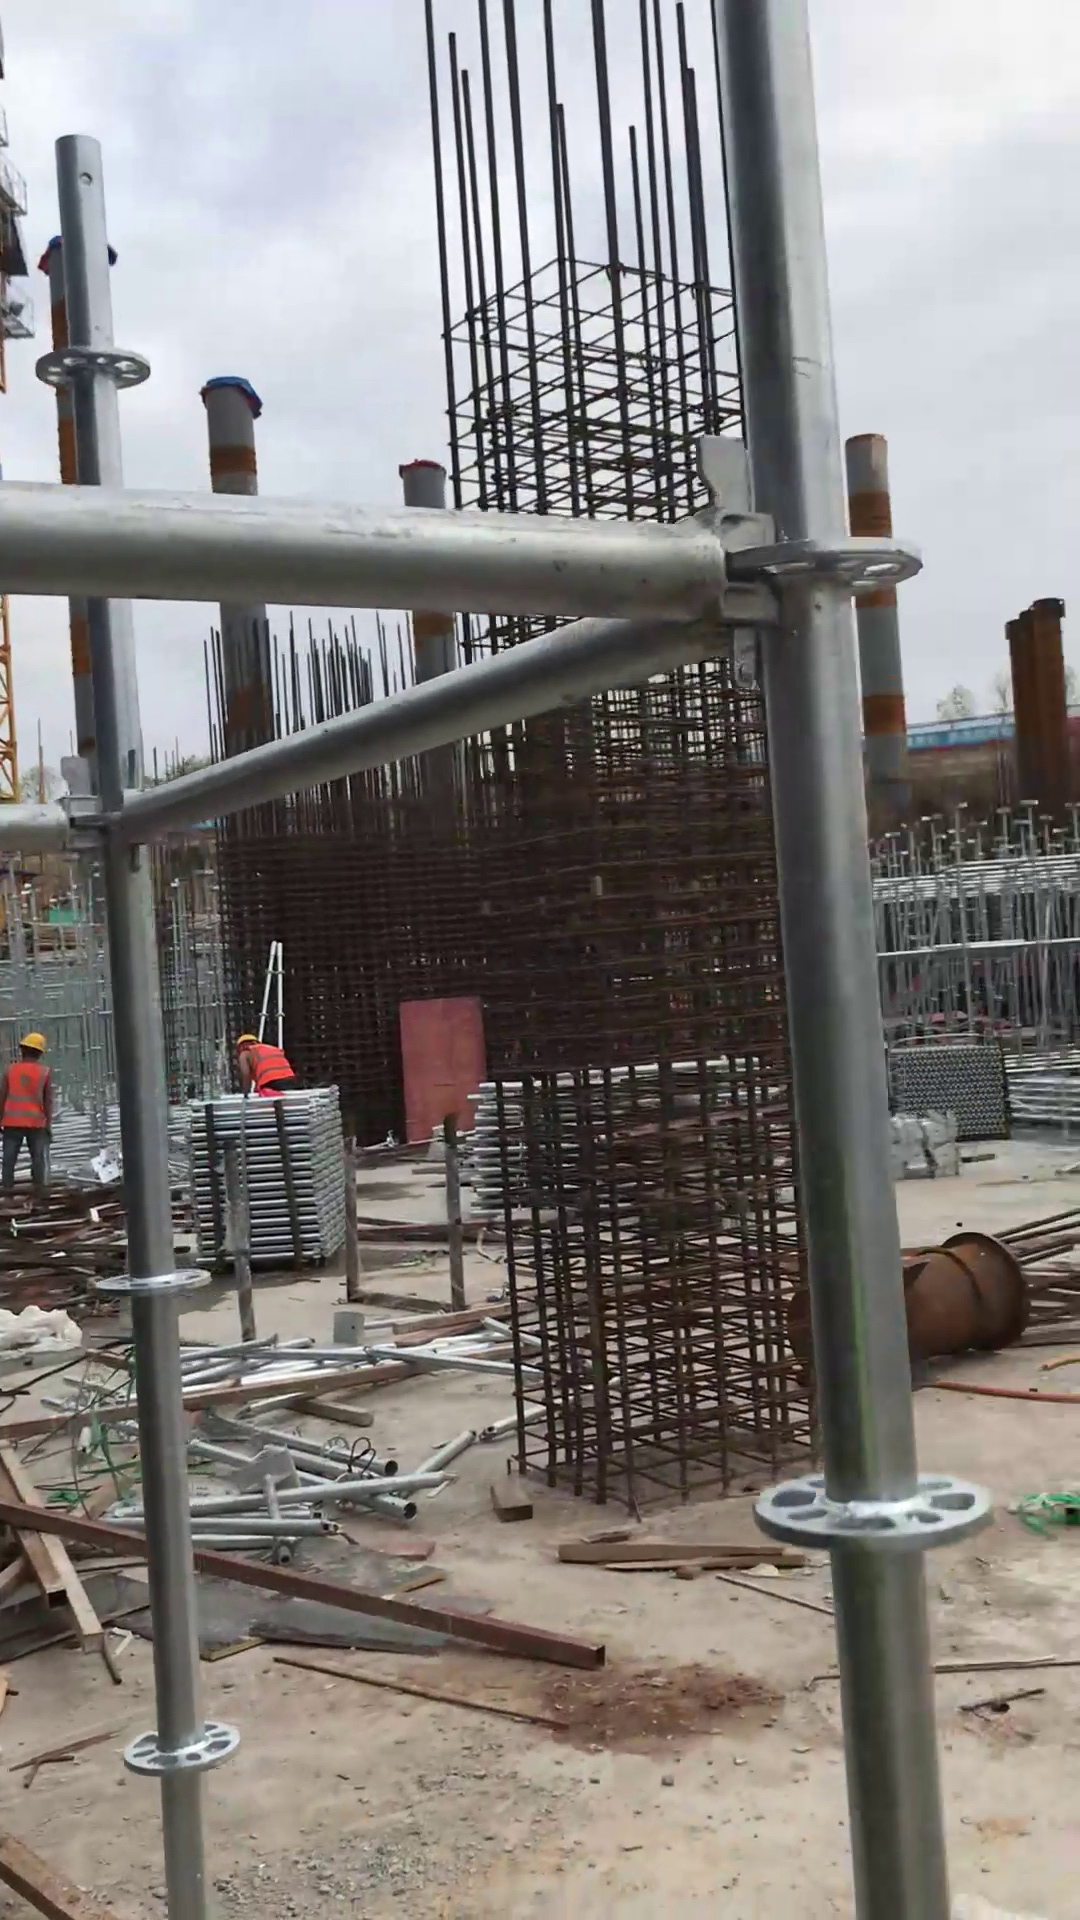helmet: (16, 1029, 51, 1060), (233, 1034, 264, 1050)
person: (1, 1024, 62, 1226), (227, 1030, 303, 1100)
scaffold: (166, 1082, 356, 1272), (883, 1032, 1023, 1156)
slogan: (905, 720, 1017, 748)
vest: (3, 1065, 54, 1133), (244, 1046, 298, 1090)
